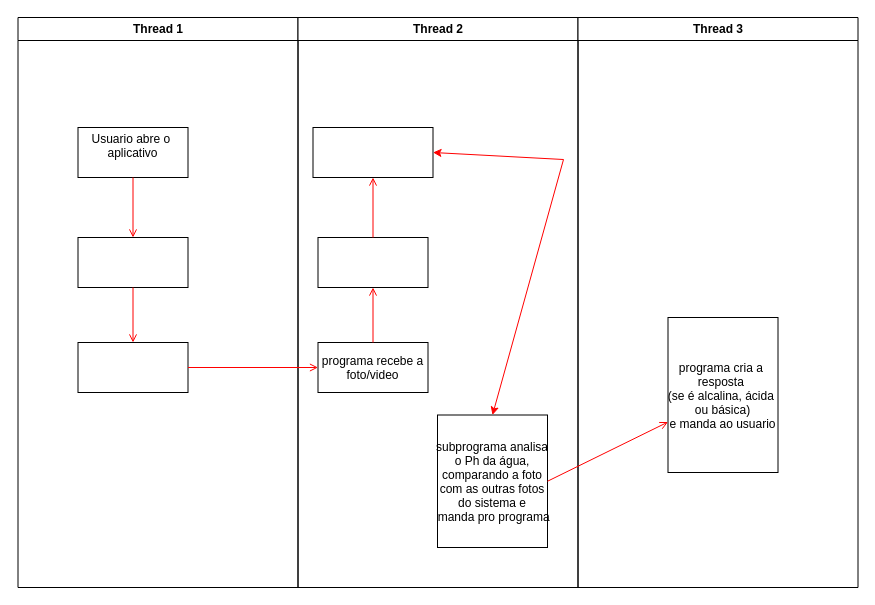
Image size: 875x605. Some labels were removed from this diagram. The shapes that lost their labels are listed below. From the top down, each one's centre as x and y in pixels, then its label:
pixel 372 152: programa manda a foto com zoom para um "subprograma"
pixel 132 262: tela inicial
pixel 372 262: programa da um zoom na imagem para analizar o Ph
pixel 132 367: usuario mostra a água pela sua câmera
